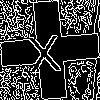X: (25, 25, 62, 74)
